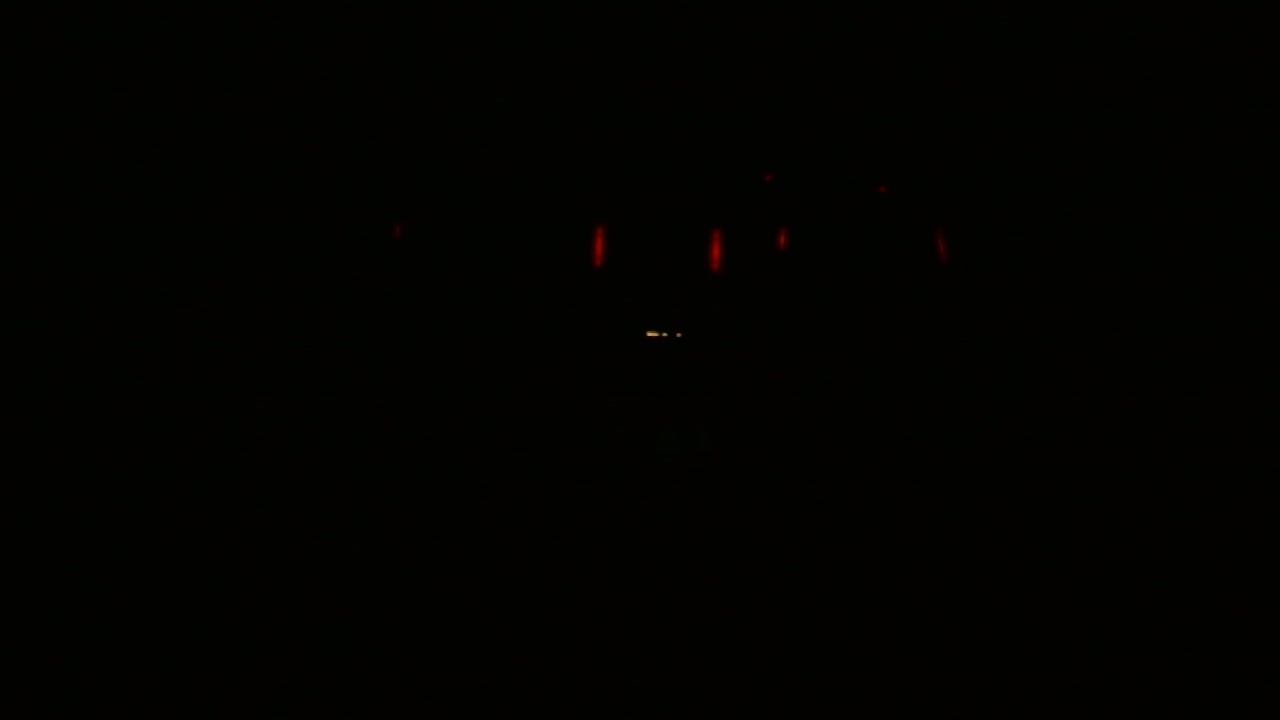pair1: (586, 220, 726, 275)
